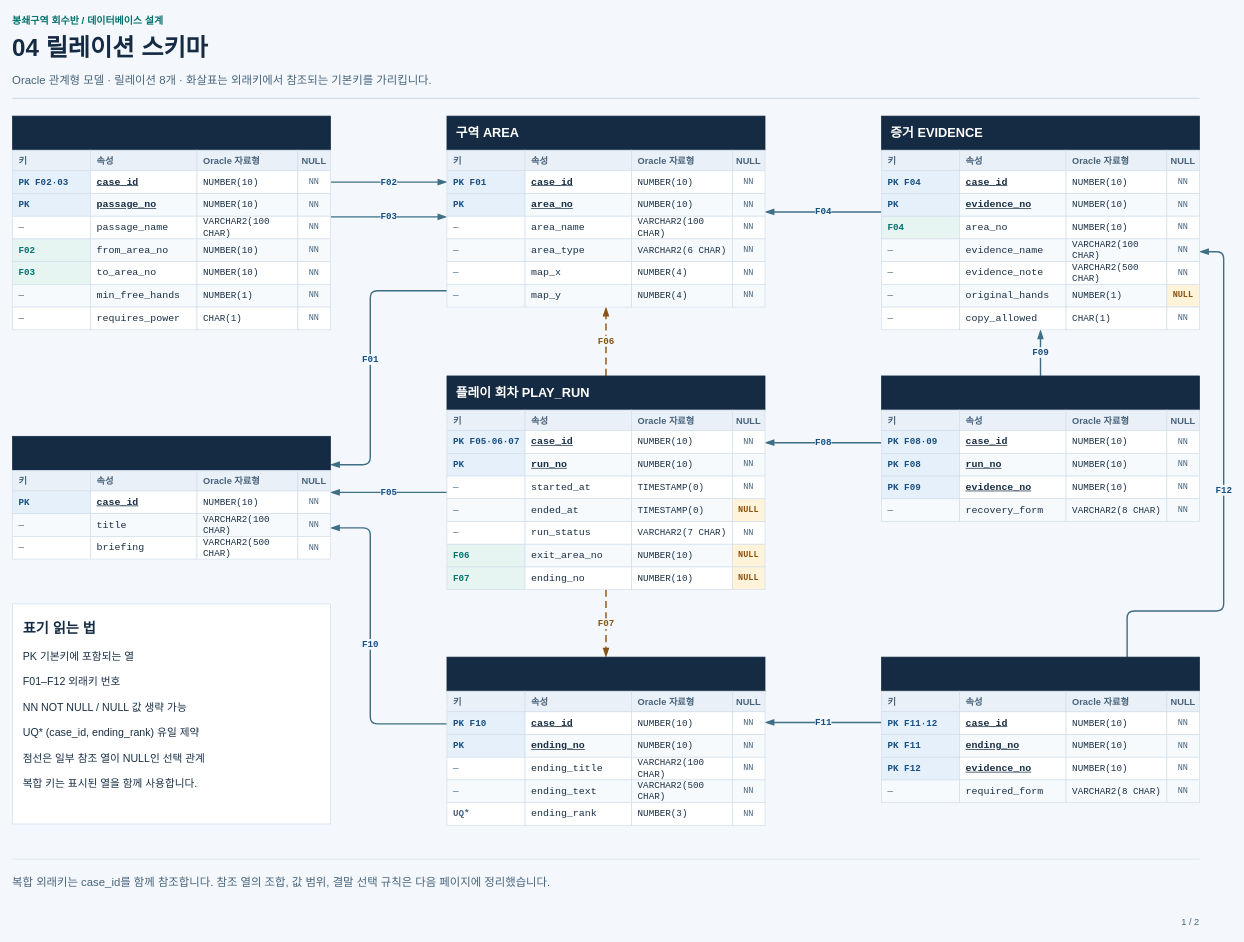
Image size: 1244x942. Some labels were removed from this diagram. The centre of each missing label's shape, as x and y in pixels:
"결말 ENDING" belongs at pixel 605 673.
"결말 조건 ENDING_REQUIREMENT" belongs at pixel 1040 673.
"사건 CASE_FILE" belongs at pixel 171 453.
"통로 PASSAGE" belongs at pixel 171 132.
"회차 증거 RUN_EVIDENCE" belongs at pixel 1040 392.
